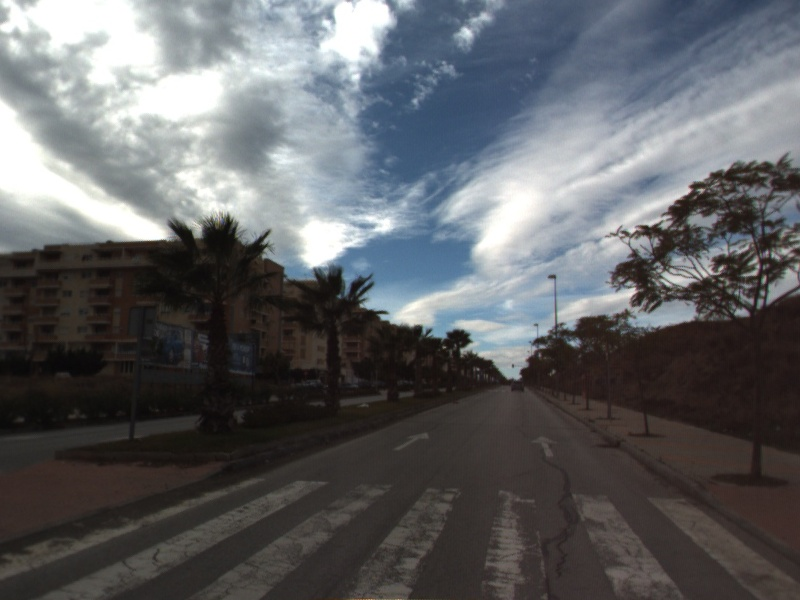STRAIGHT: (391, 430, 431, 452), (529, 433, 560, 459)
